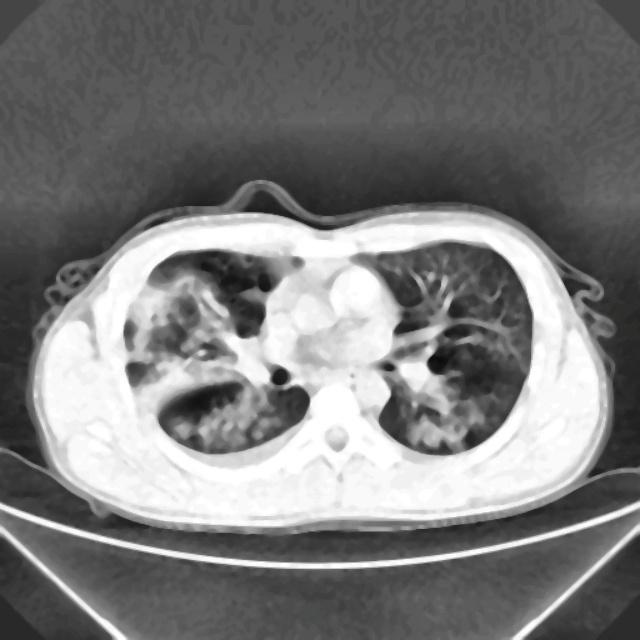covid: (26, 182, 617, 536)
